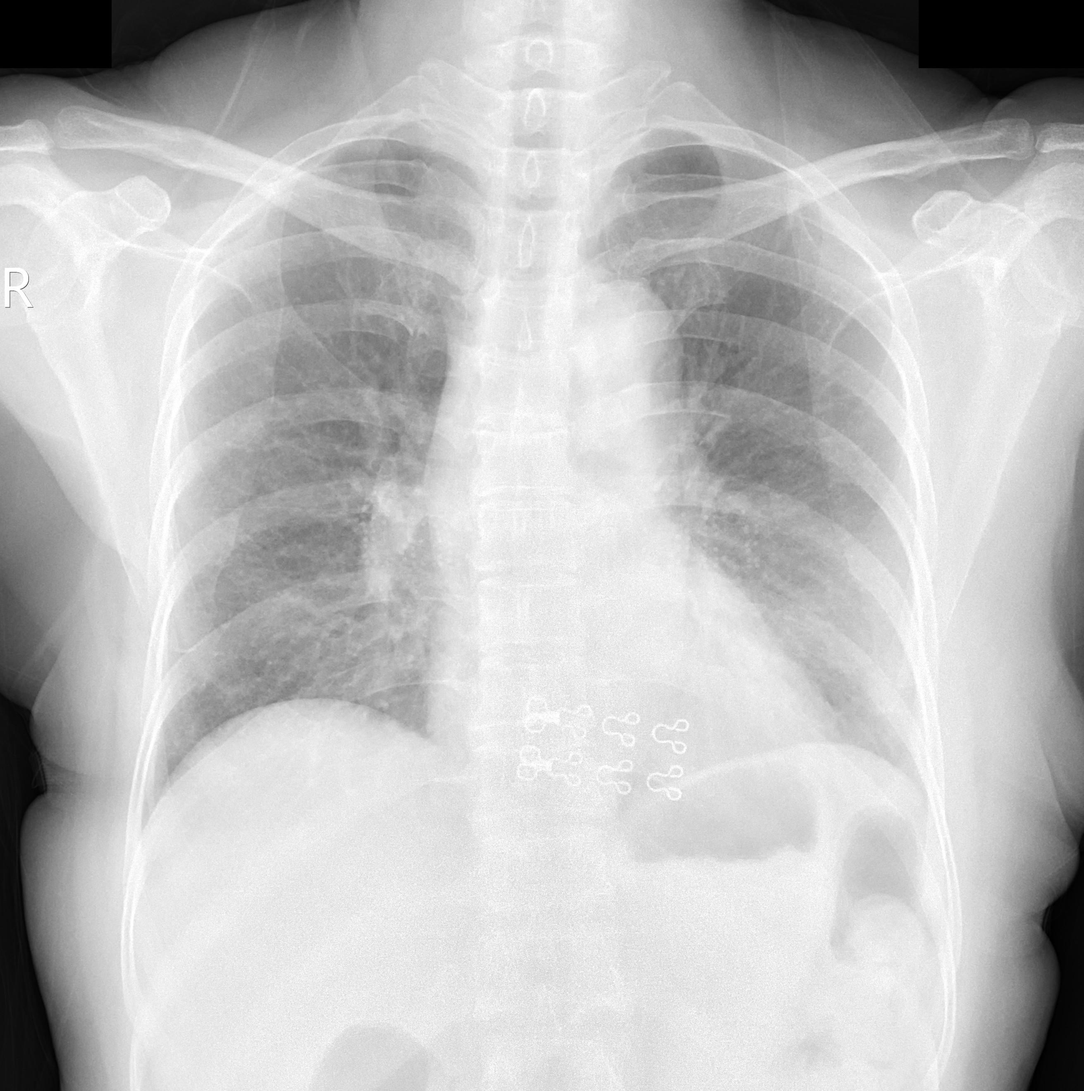Aortic enlargement: (544, 277, 684, 431)
Cardiomegaly: (418, 646, 852, 799)
